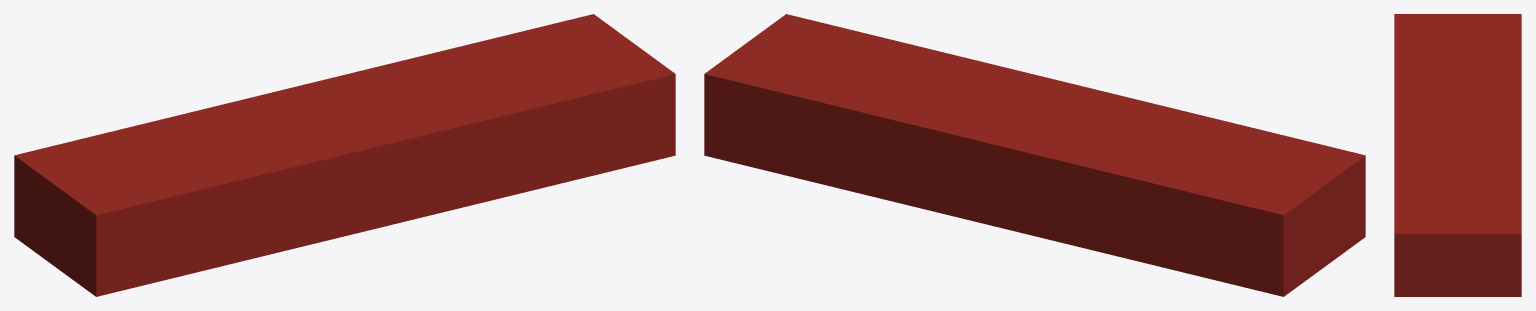
Rendered from SM_16_Hall_Shell.fbx.
3 views of the same model, side by side, from view 1: azimuth 30°, elevation 25°; view 2: azimuth 150°, elevation 25°; view 3: azimuth 270°, elevation 25° (orthographic). The views are drawn at different scales.
Visible parts, largest first — view 1: Hall_Shell; view 2: Hall_Shell; view 3: Hall_Shell.
Part boxes in pixels (bbox=[...]): Hall_Shell: bbox=[14, 14, 675, 296]; Hall_Shell: bbox=[704, 14, 1365, 296]; Hall_Shell: bbox=[1394, 14, 1521, 296].
Bounding box in the file's own units: 4900 × 1200 × 660.
